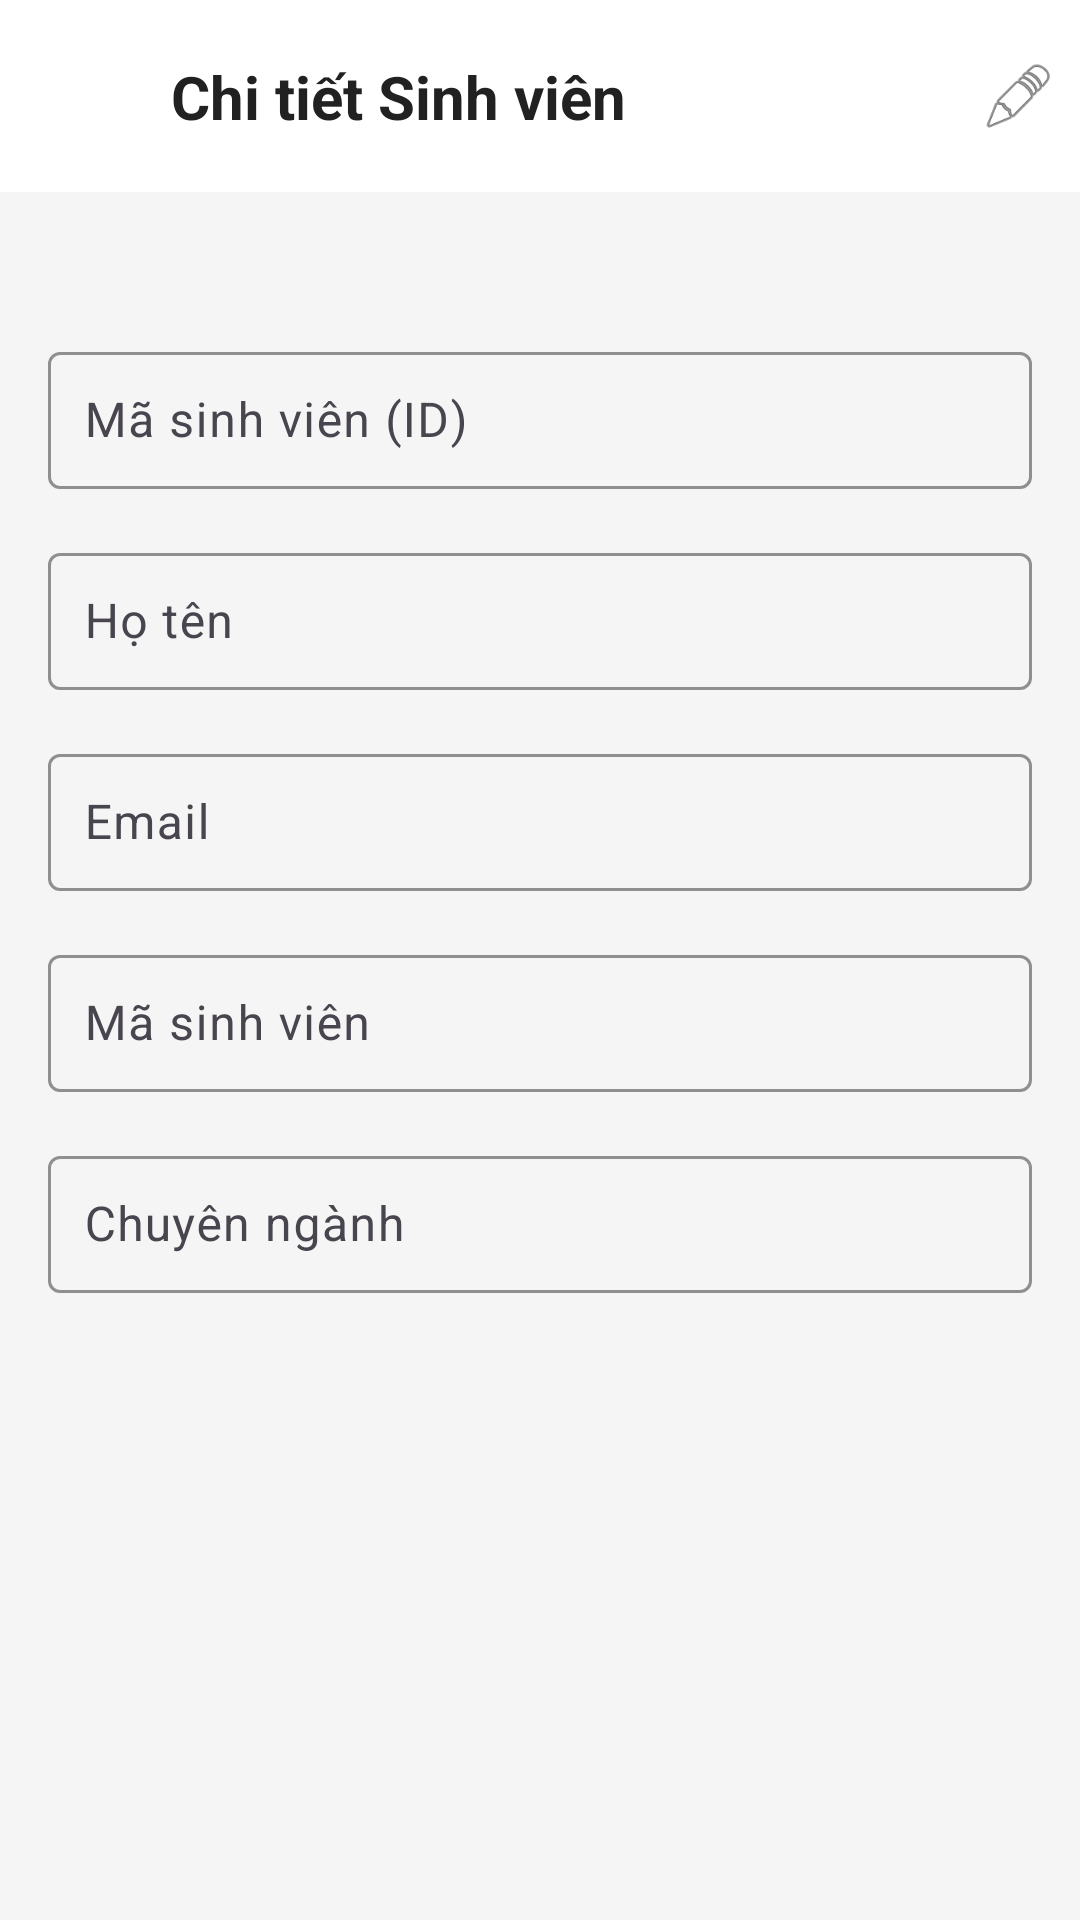

Icon click points for this 1080*1920 phone screenshot, format point (x, y):
Chỉnh sửa: point (1018, 96)
